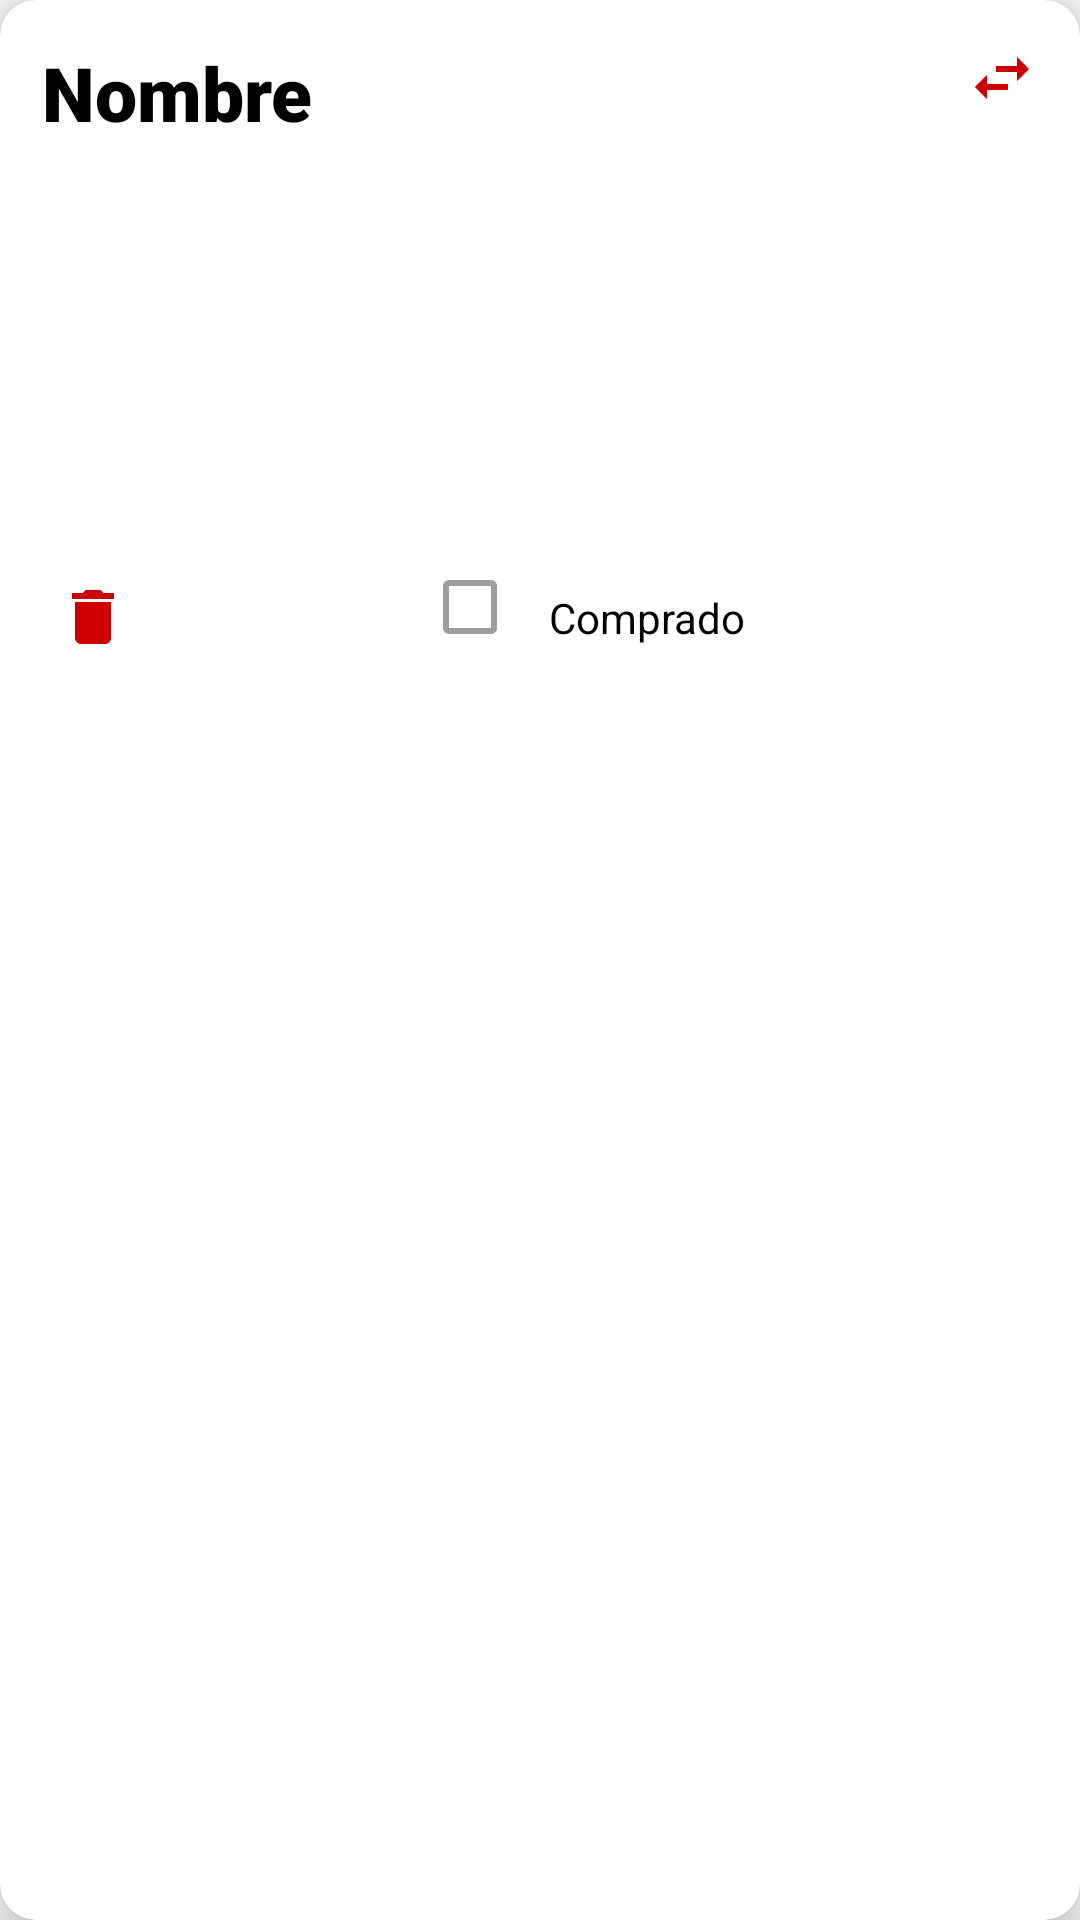

Named icons in this screenshot (1080px x 1920px) and their bounding boxes, region(x1, y1, x2, y2):
remove: region(72, 590, 114, 644)
